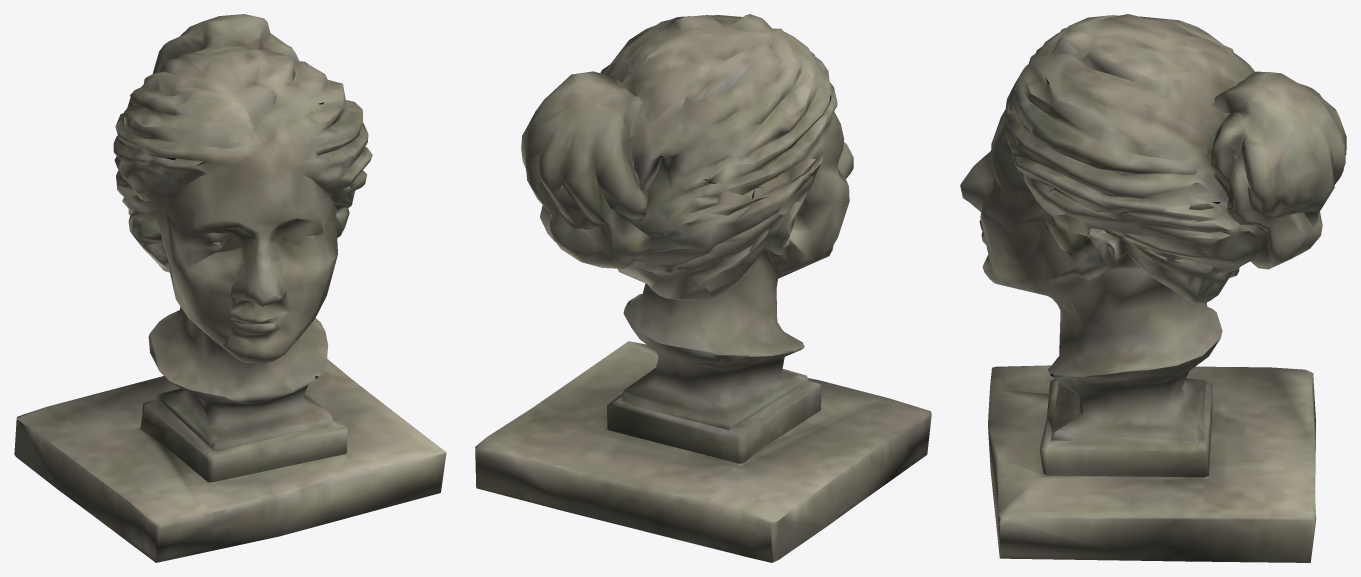
The model's file is rustic-limestone-bust-v001.glb.
3 renders of one model, left to right at view 1: azimuth 30°, elevation 25°; view 2: azimuth 150°, elevation 25°; view 3: azimuth 270°, elevation 25°, orthographic. The views are drawn at different scales.
Parts seen in each view (by area): view 1: rustic-limestone-bust; view 2: rustic-limestone-bust; view 3: rustic-limestone-bust.
Part boxes in pixels (x1,y1,x2,y2): rustic-limestone-bust: (14,14,446,562); rustic-limestone-bust: (475,14,931,562); rustic-limestone-bust: (960,14,1346,562).
Bounding box in the file's own units: 0.5081 × 0.6853 × 0.5322.
Materials: 1 (1 with a texture image).
